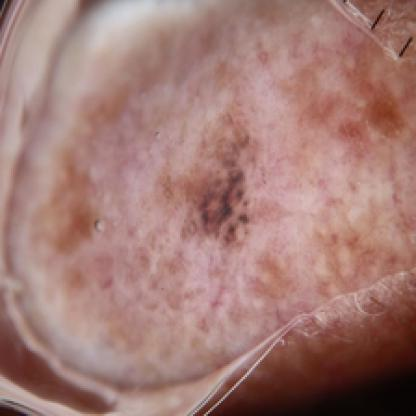benign: (20, 28, 400, 375)
